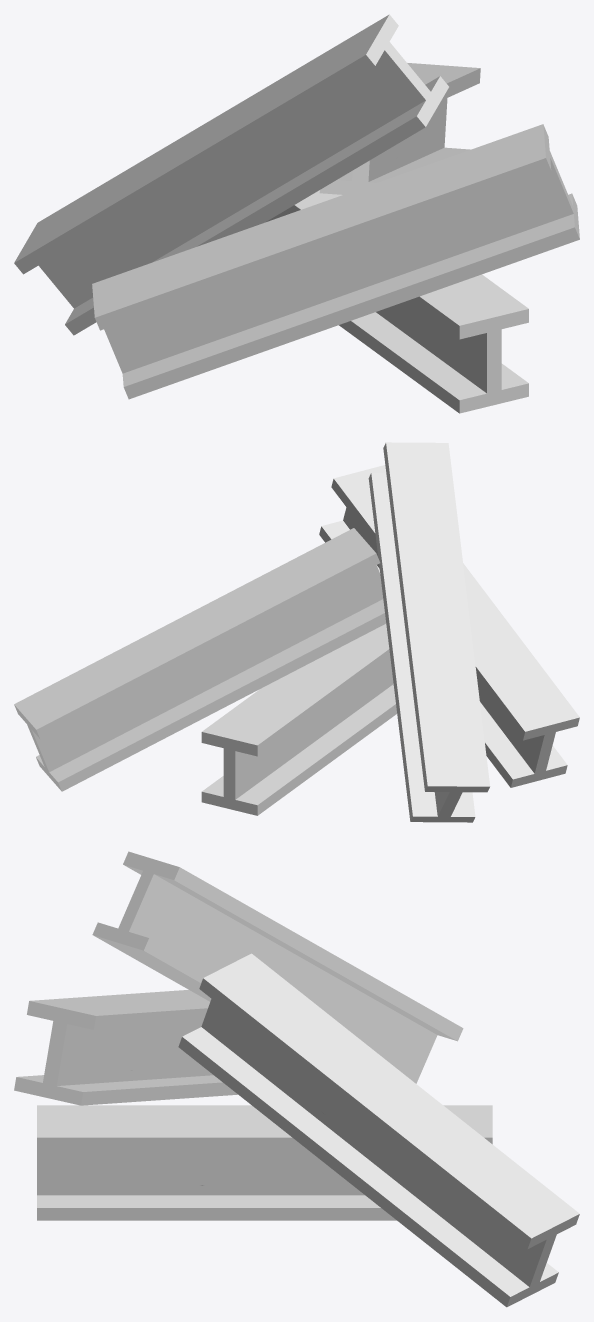
Rendered from steelframe.obj.
3 views of the same model, one above another, from view 1: azimuth 30°, elevation 25°; view 2: azimuth 150°, elevation 25°; view 3: azimuth 270°, elevation 25° (orthographic). The views are drawn at different scales.
Visible parts, largest first — view 1: pasted__name0; view 2: pasted__name0; view 3: pasted__name0.
Part boxes in pixels (bbox=[...]): pasted__name0: bbox=[14, 14, 579, 413]; pasted__name0: bbox=[14, 442, 579, 822]; pasted__name0: bbox=[14, 851, 579, 1307].
Bounding box in the file's own units: 3.92 × 2.37 × 3.73.
1 material, 1 textured.
